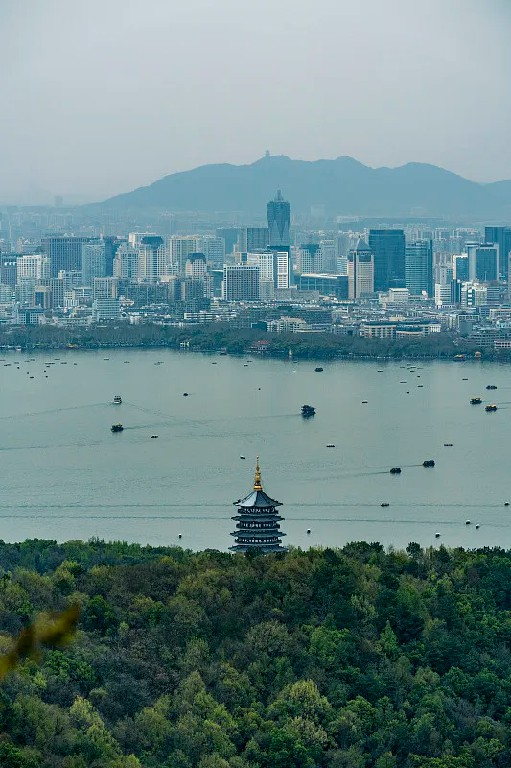Leifeng: (227, 456, 287, 561)
